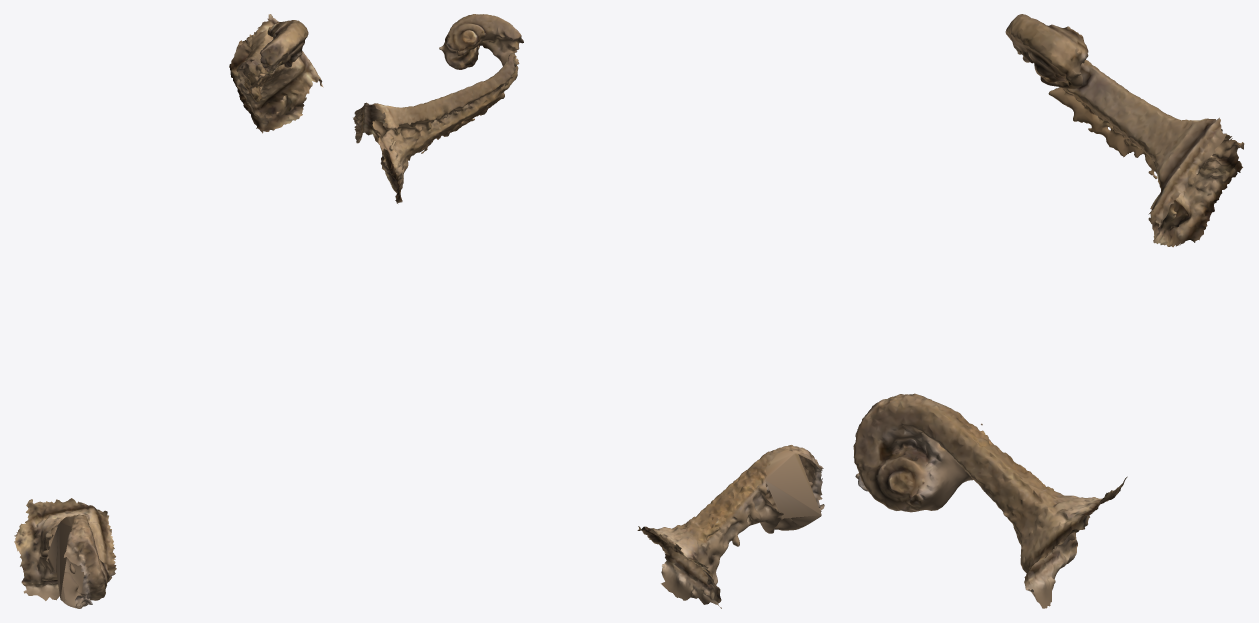
File: TGS Legs.obj
3 renders of one model, left to right at view 1: azimuth 30°, elevation 25°; view 2: azimuth 150°, elevation 25°; view 3: azimuth 270°, elevation 25°, orthographic. The views are drawn at different scales.
Bounding box in the file's own units: 0.9908 × 1.38 × 0.6758.
